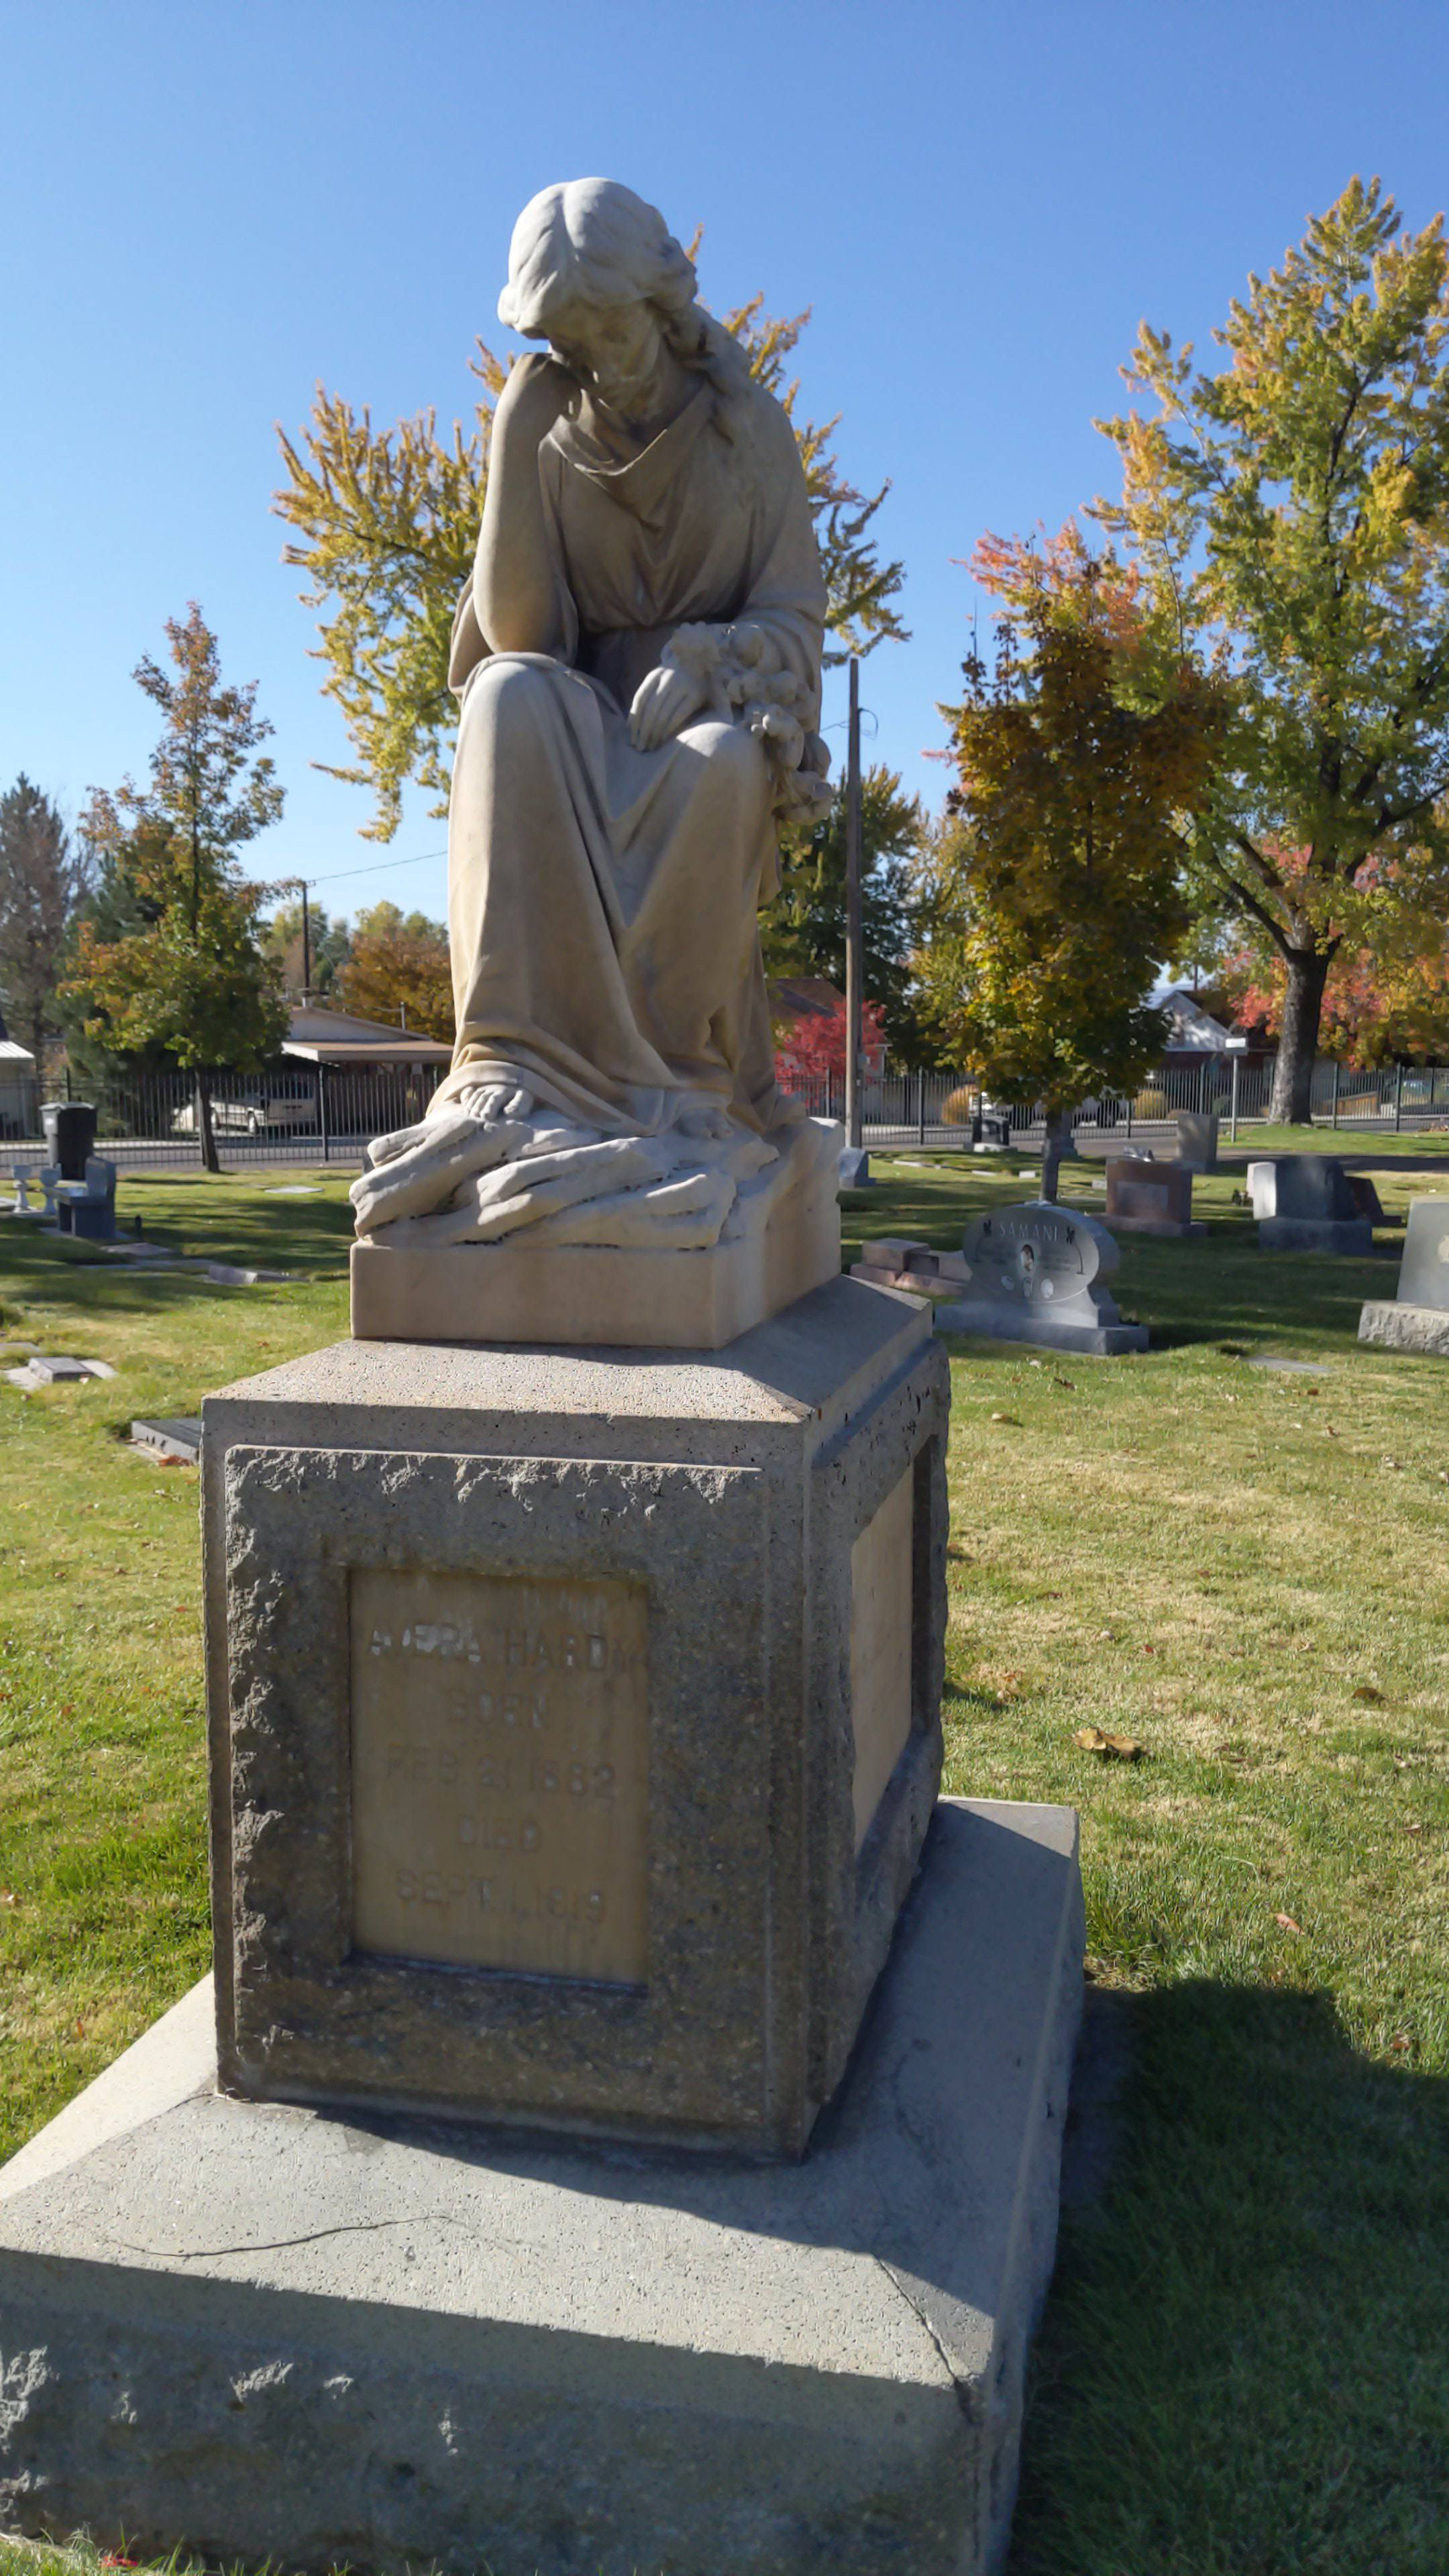statue: (211, 180, 939, 2109)
